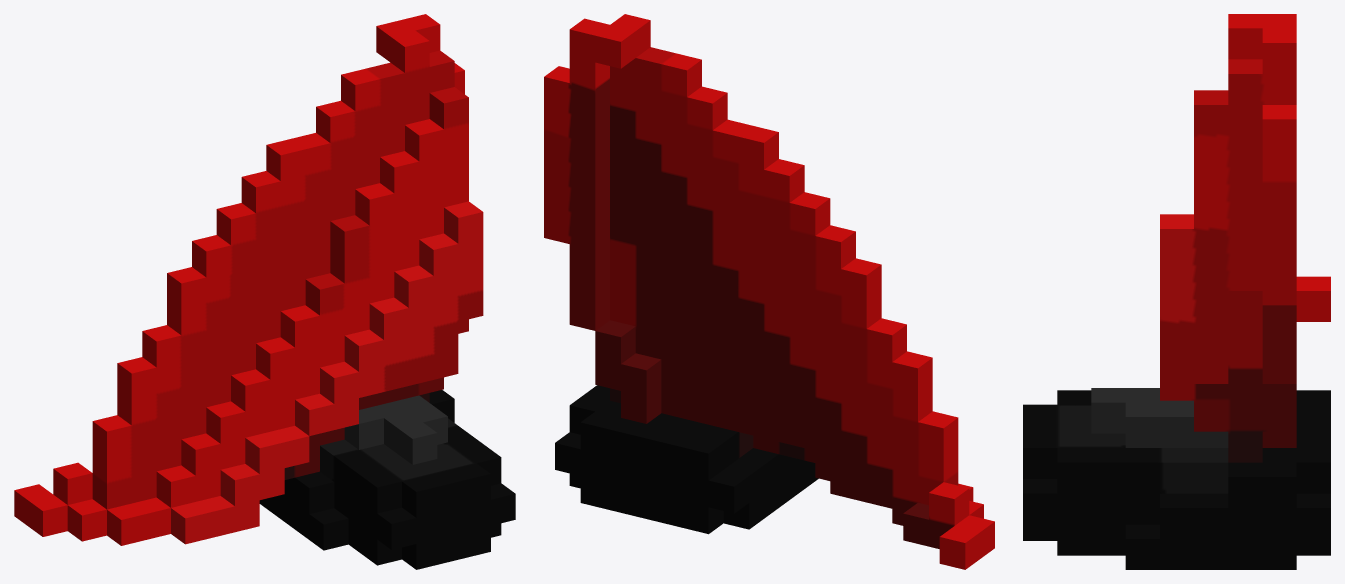
The model's file is piromant_leg1.obj.
The picture shows the model from 3 angles, left to right: view 1: azimuth 30°, elevation 25°; view 2: azimuth 150°, elevation 25°; view 3: azimuth 270°, elevation 25°; orthographic projection. The views are drawn at different scales.
Parts seen in each view (by area): view 1: piromant_leg1.000_piromant_leg1.002; view 2: piromant_leg1.000_piromant_leg1.002; view 3: piromant_leg1.000_piromant_leg1.002.
Part boxes in pixels (x1,y1,x2,y2): piromant_leg1.000_piromant_leg1.002: [14, 14, 515, 569]; piromant_leg1.000_piromant_leg1.002: [544, 14, 994, 569]; piromant_leg1.000_piromant_leg1.002: [1023, 14, 1330, 569].
Size of the model in its own units: 1.7 by 1.7 by 0.9.
1 material, 1 textured.
